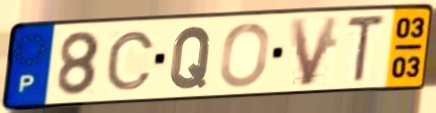8: (54, 29, 102, 98)
C: (103, 29, 157, 93)
O: (216, 21, 272, 90)
Q: (167, 24, 215, 92)
T: (345, 13, 388, 86)
V: (287, 13, 343, 89)
